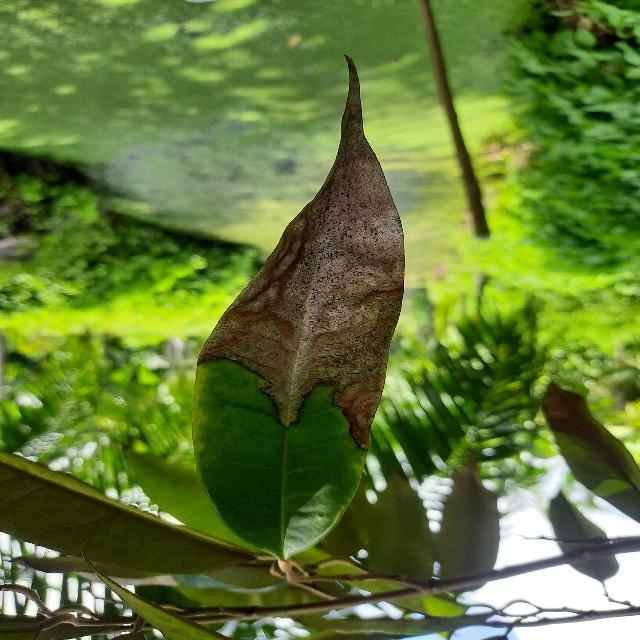Leaf Blight: (174, 43, 417, 563)
